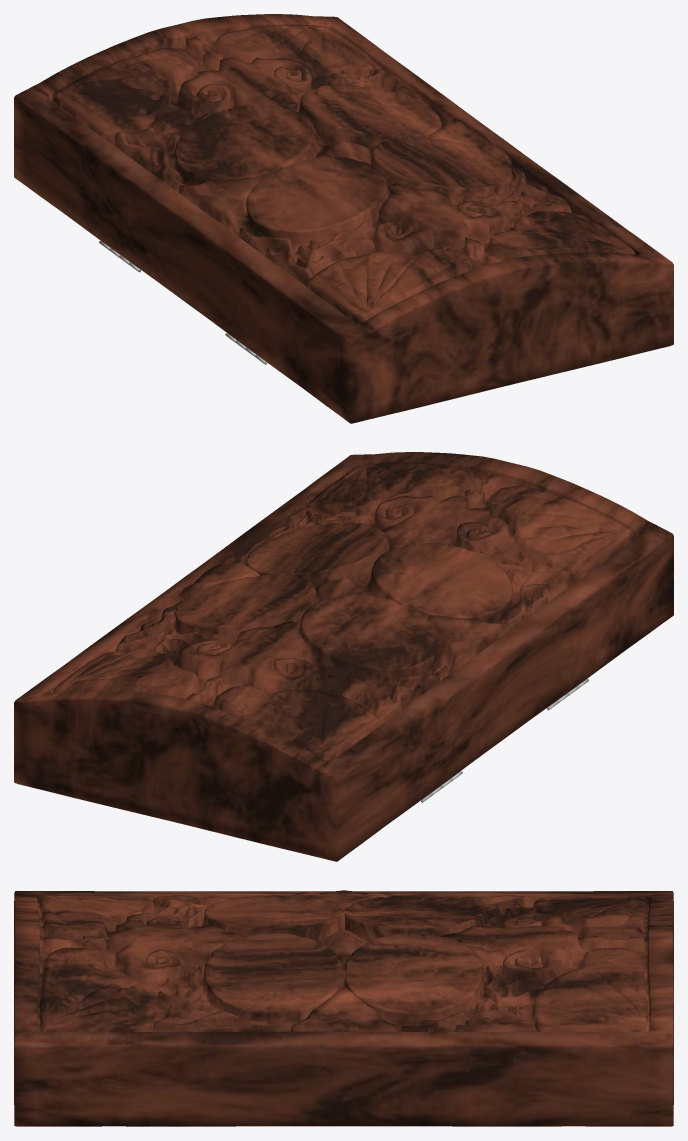
Rendered from music_box_lid.gltf.
3 renders of one model, top to bottom at view 1: azimuth 30°, elevation 25°; view 2: azimuth 150°, elevation 25°; view 3: azimuth 270°, elevation 25°, orthographic. The views are drawn at different scales.
Parts seen in each view (by area): view 1: Casket_top_4; view 2: Casket_top_4; view 3: Casket_top_4.
Boxes of the visible parts, x1=… form: Casket_top_4: x1=14, y1=14, x2=673, y2=423; Casket_top_4: x1=14, y1=452, x2=673, y2=861; Casket_top_4: x1=14, y1=890, x2=673, y2=1126.
Bounding box in the file's own units: 2.62 × 0.9749 × 4.72.
Materials: 1 (1 with a texture image).
